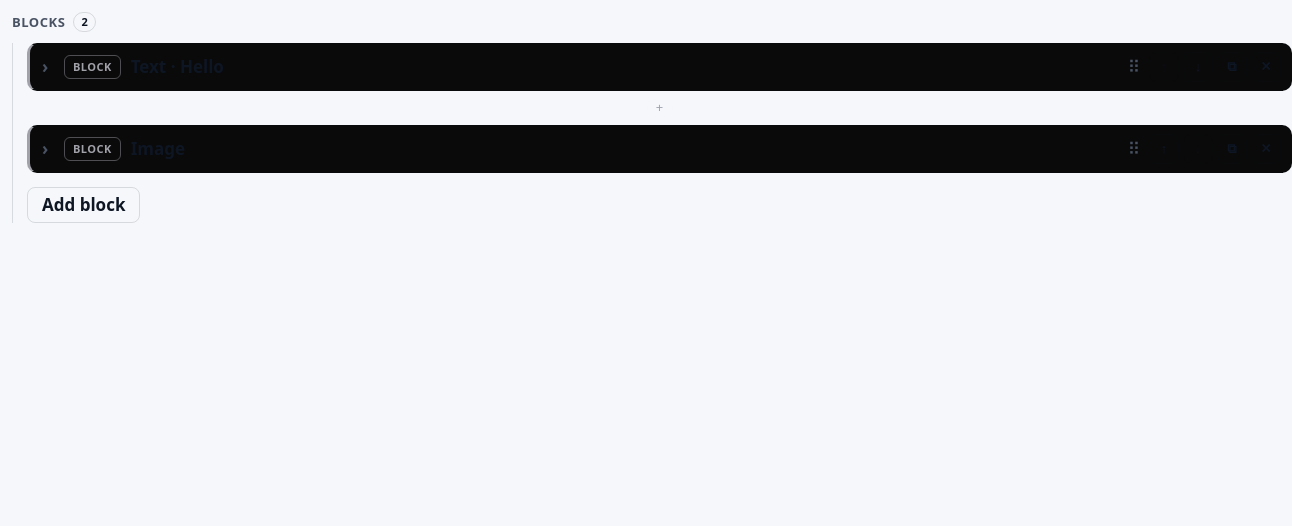
Test: nested list items › renders items closed, then shows fields, kind and depth when opened
This screenshot has width=1292, height=526.
Expected: the field labelled "Heading" is not shown
Click the button "Block Text · Hello" at (92, 67), box x1=30 y1=44 x2=1115 y2=90
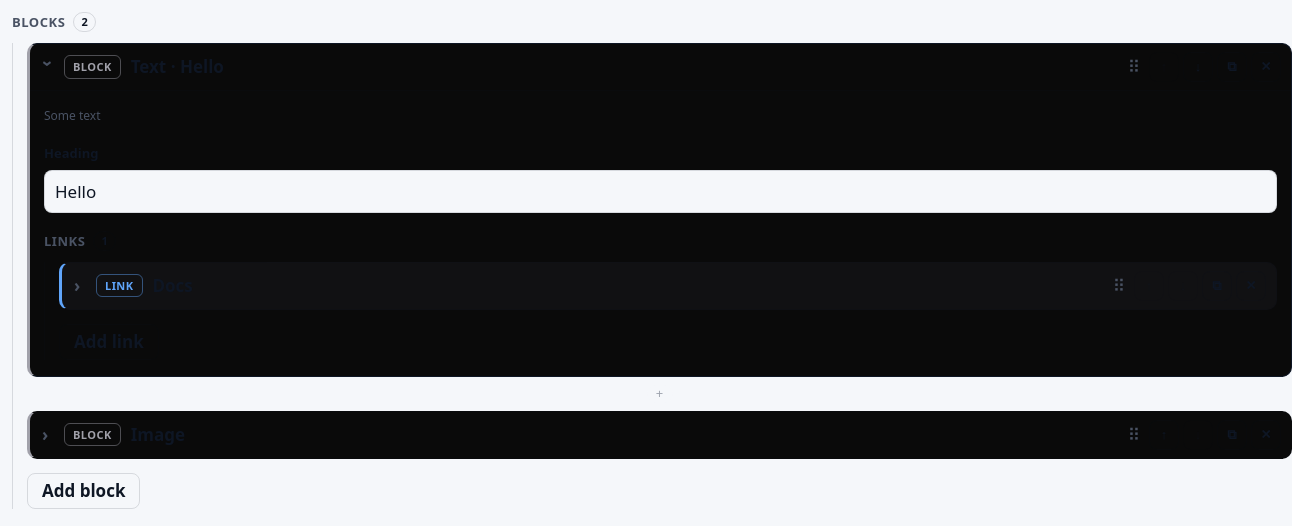
Expected: the 1st text "Block" is shown, x1=64 y1=55 x2=121 y2=79
Now the field labelled "Heading" is shown, box x1=44 y1=170 x2=1277 y2=213
Now the text "Link" is shown, box x1=96 y1=274 x2=142 y2=297
